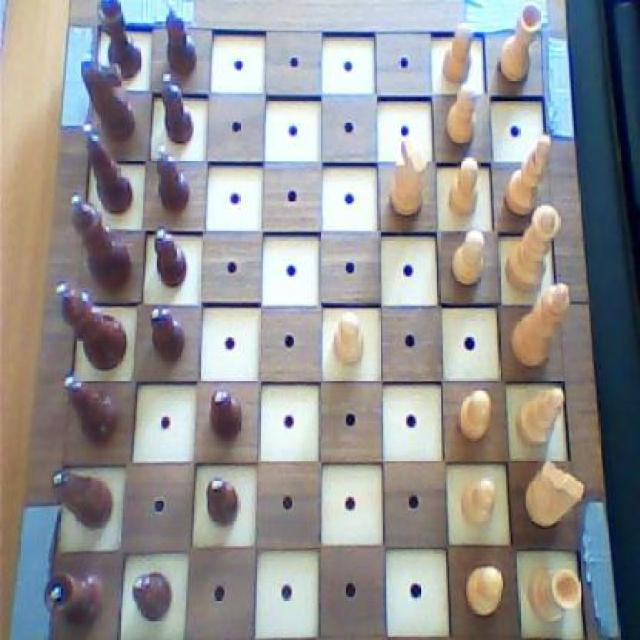bishop: (57, 368, 121, 452), (80, 118, 135, 214)
black-bishop: (51, 278, 130, 369)
black-king: (77, 48, 140, 144), (52, 463, 117, 538)
black-knight: (157, 0, 205, 77), (155, 66, 198, 148), (151, 140, 191, 217), (146, 306, 191, 369), (151, 224, 189, 292), (204, 386, 246, 446), (131, 568, 175, 624), (204, 471, 243, 529)
black-pawn: (64, 187, 134, 296)
black-queen: (38, 562, 106, 632), (96, 0, 146, 83)
black-rook: (501, 128, 557, 219), (514, 382, 568, 453)
white-bishop: (506, 277, 576, 373)
white-king: (518, 452, 590, 536), (383, 128, 428, 222)
white-knight: (443, 152, 482, 222), (443, 81, 481, 152), (463, 557, 507, 618), (440, 18, 475, 91), (448, 224, 487, 288), (452, 389, 494, 446), (332, 308, 368, 374), (455, 474, 498, 528)
white-pawn: (501, 202, 564, 300)
white-queen: (492, 0, 543, 88), (521, 562, 584, 632)
